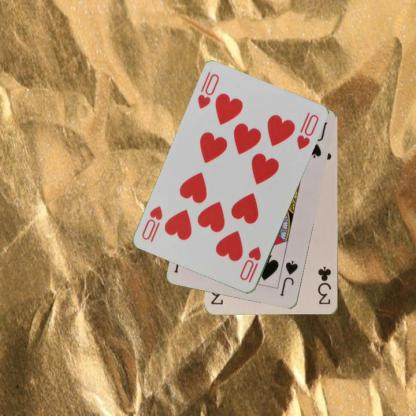10h: (237, 244, 263, 284), (194, 71, 220, 110)
3c: (315, 264, 333, 306)
Js: (278, 258, 300, 298)
